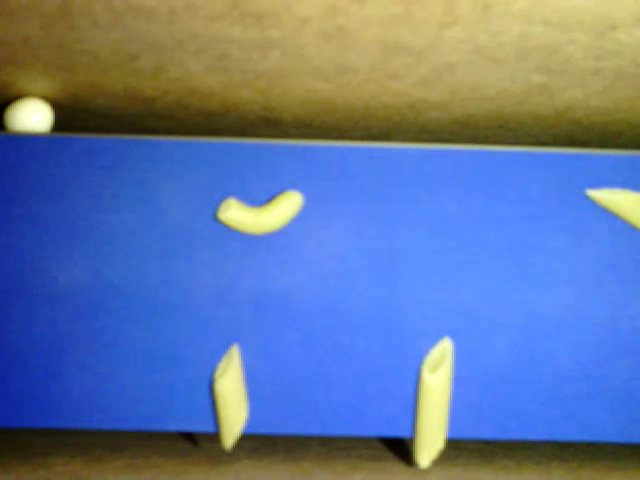elbow: (216, 188, 304, 236)
penne: (413, 334, 455, 470), (211, 342, 250, 451), (584, 186, 639, 228)
